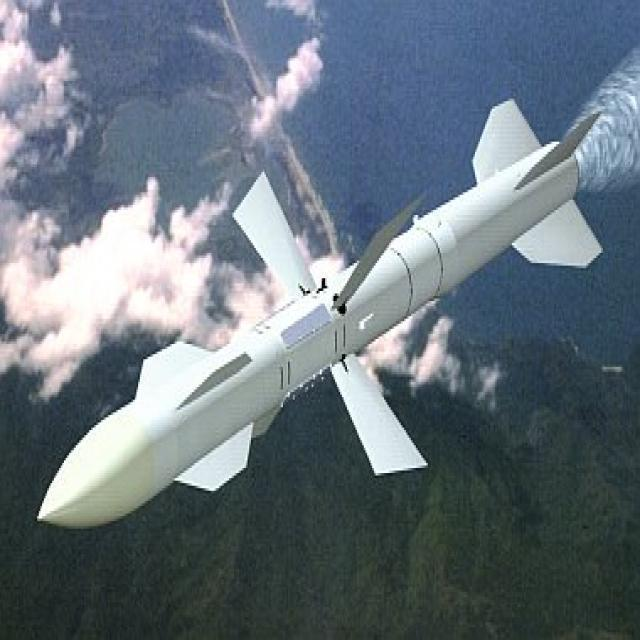missile: (39, 90, 604, 524)
